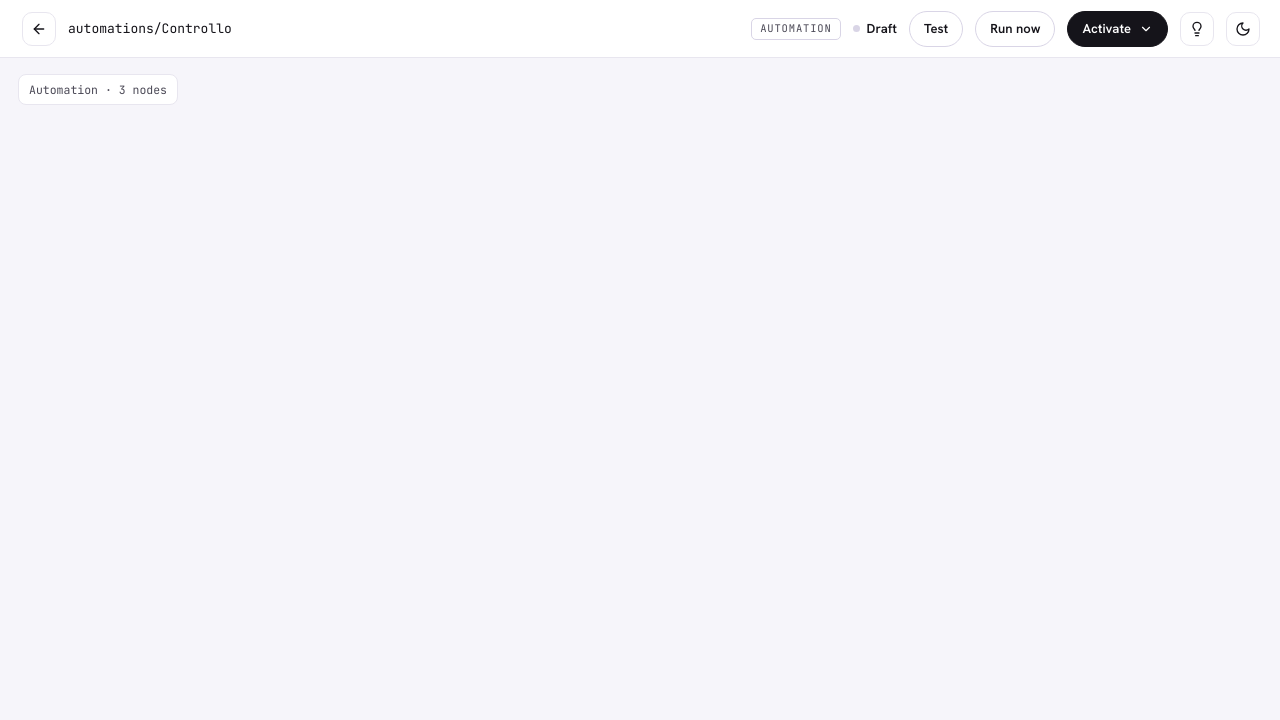
Run now in the editor › nothing is sent until the confirmation, and the result is titled as a real run
The image size is (1280, 720).
Click the button "Run now" at (1015,28), box top-left (975, 10), bottom-right (1056, 46)
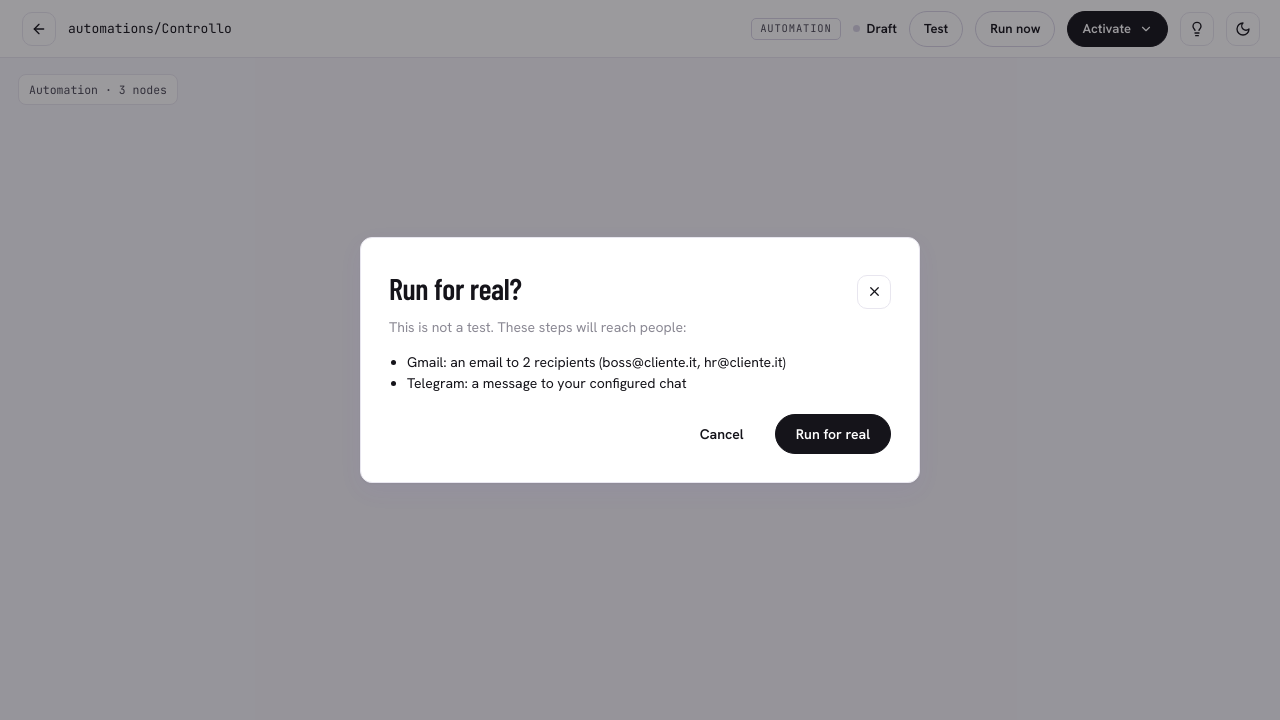
Result: the dialog "Run for real?" is shown at top-left (360, 237), bottom-right (920, 483)
Click the button "Run for real" at (833,434), box top-left (775, 414), bottom-right (891, 454)
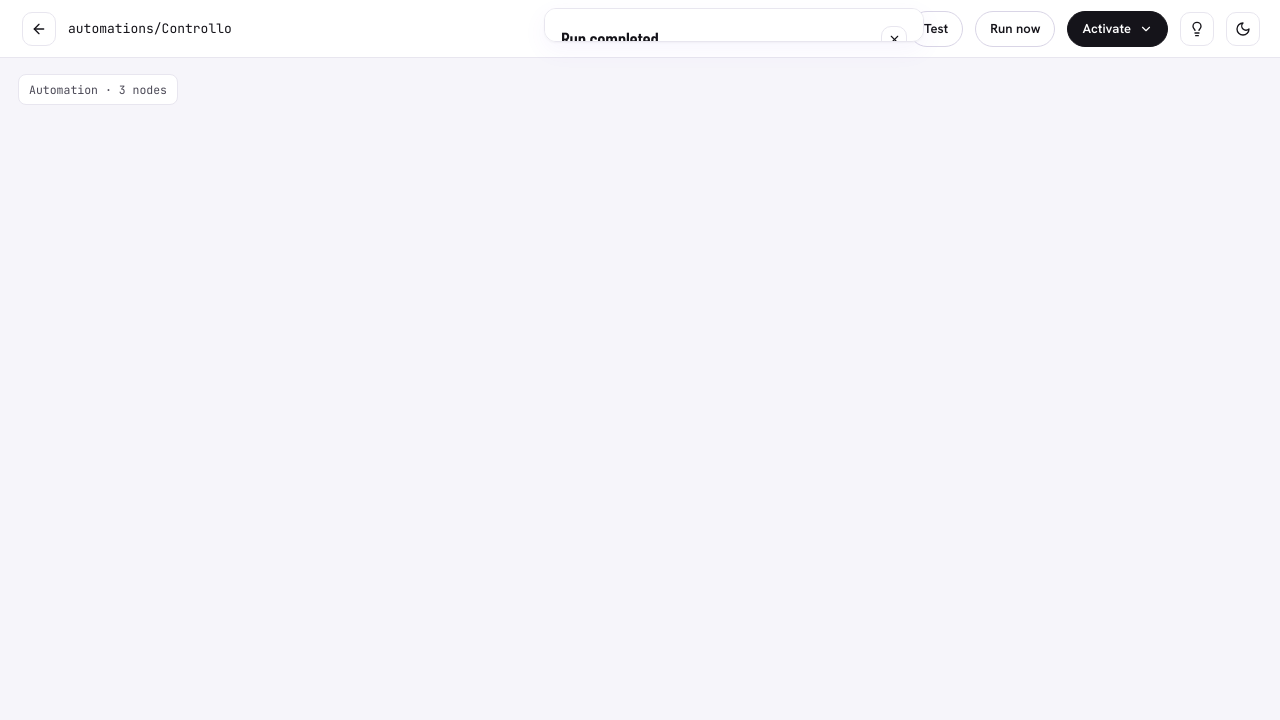
Result: the heading "Run completed" is shown at top-left (561, 27), bottom-right (659, 42)
